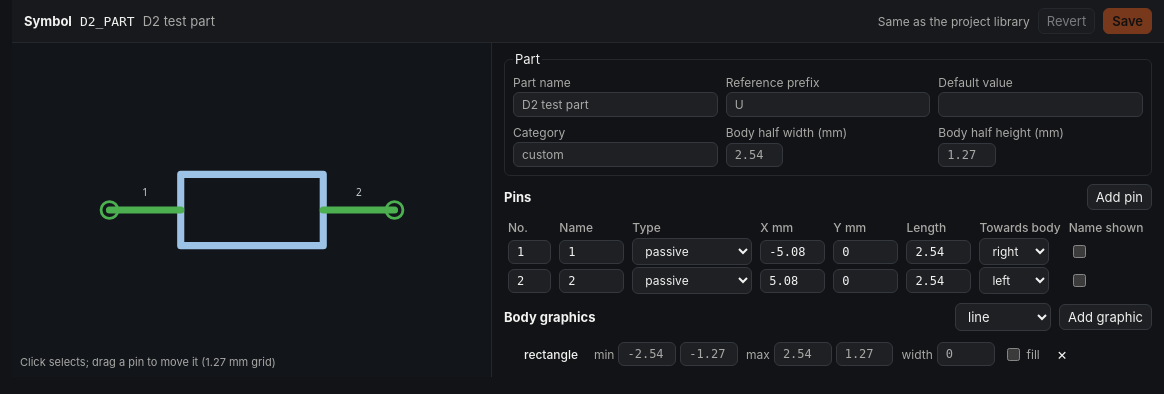
Test: symbol editor › edits the pin table and saves once with UpsertComponentDefinition
This screenshot has width=1164, height=394.
Later steps or results of the test are not shown.
Check: the button "Save" is disabled, box [1103,8,1152,34]
Replace the text in the field named "Pin 1 name" with "IN" at x=592, y=252, box [559,240,624,264]
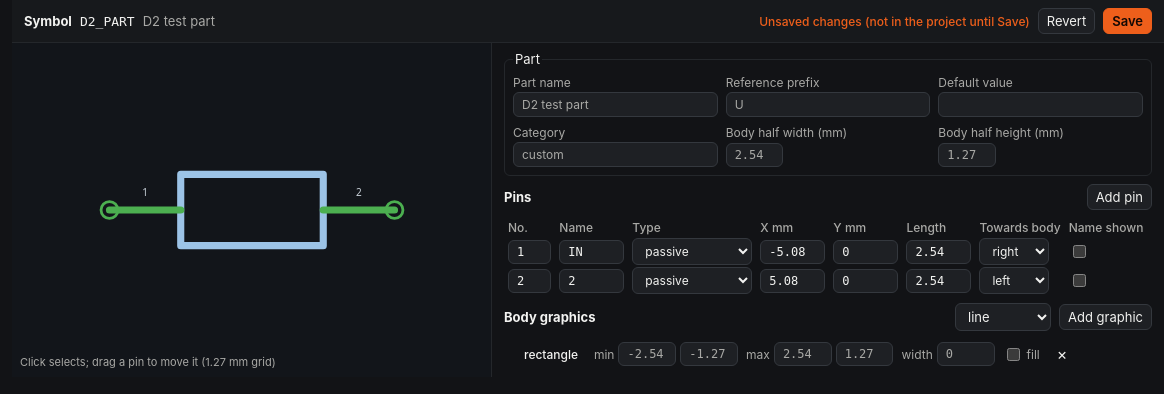
Select "output" in the dropdown named "Pin 2 type" at x=692, y=280, box [632,267,752,294]
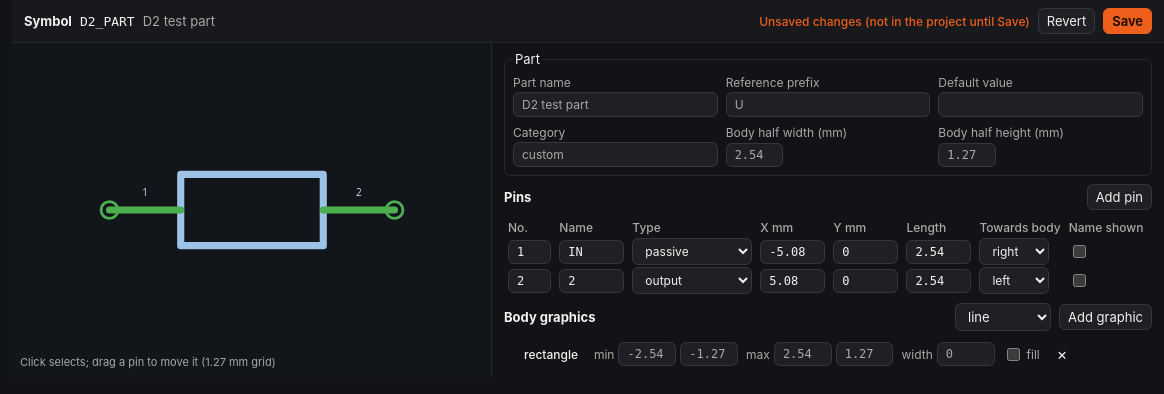
Check: the message shows "Unsaved changes", box [759,14,1030,28]
